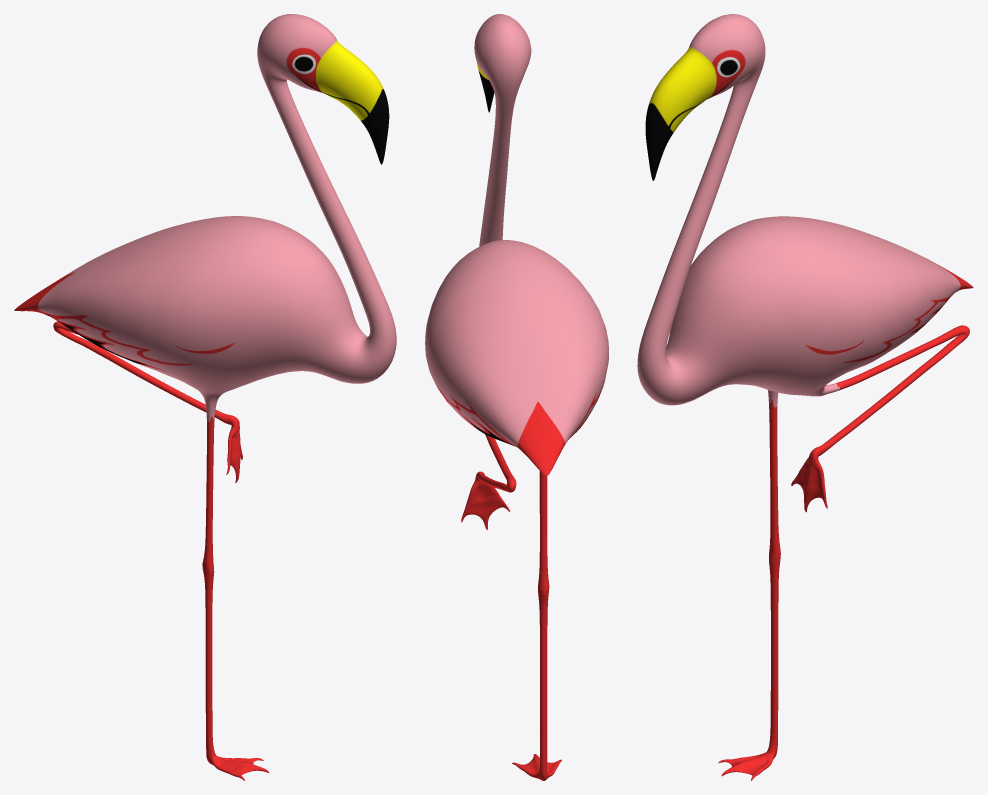
Rendered from flamingo.glb.
The picture shows the model from 3 angles, left to right: view 1: azimuth 30°, elevation 25°; view 2: azimuth 150°, elevation 25°; view 3: azimuth 270°, elevation 25°; orthographic projection. The views are drawn at different scales.
Parts seen in each view (by area): view 1: node_id59_1; view 2: node_id59_1; view 3: node_id59_1.
Part boxes in pixels (x1=…): node_id59_1: x1=14, y1=14, x2=396, y2=780; node_id59_1: x1=425, y1=14, x2=608, y2=780; node_id59_1: x1=637, y1=14, x2=973, y2=780.
Size of the model in its own units: 0.163 by 0.512 by 0.2013.
Materials: 1 (1 with a texture image).
